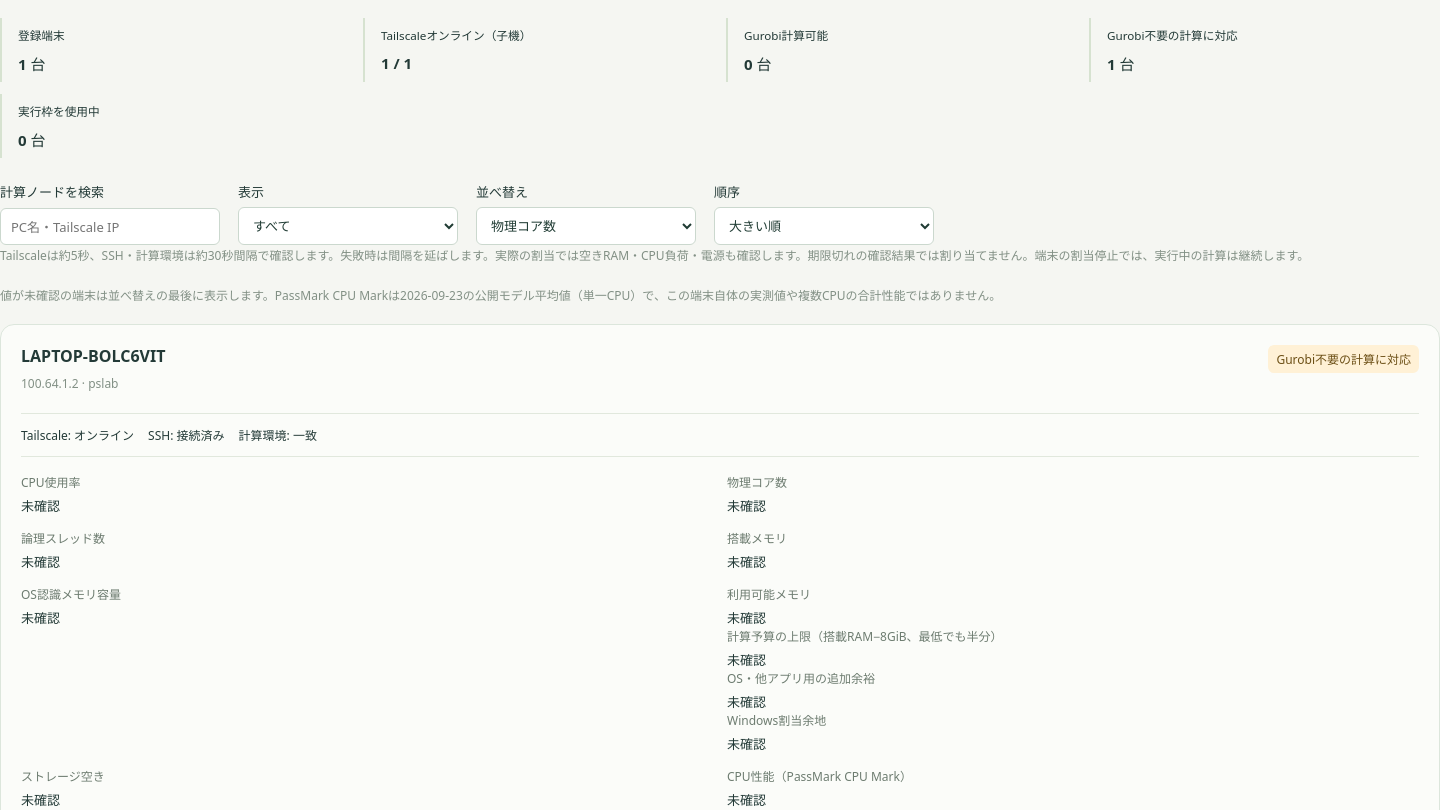
Test: shows a verified no-Gurobi worker as usable for its supported calculation
This screenshot has width=1440, height=810.
Check: the text "Gurobi不要の計算に対応" in the row of "LAPTOP-BOLC6VIT" is shown, box [1276,351,1411,368]
Check: the 2nd text "1 台" is shown, box [1107,54,1134,74]
Select "計算可能" in the dropdown labelled "表示" at (348, 226), box [238,207,458,245]
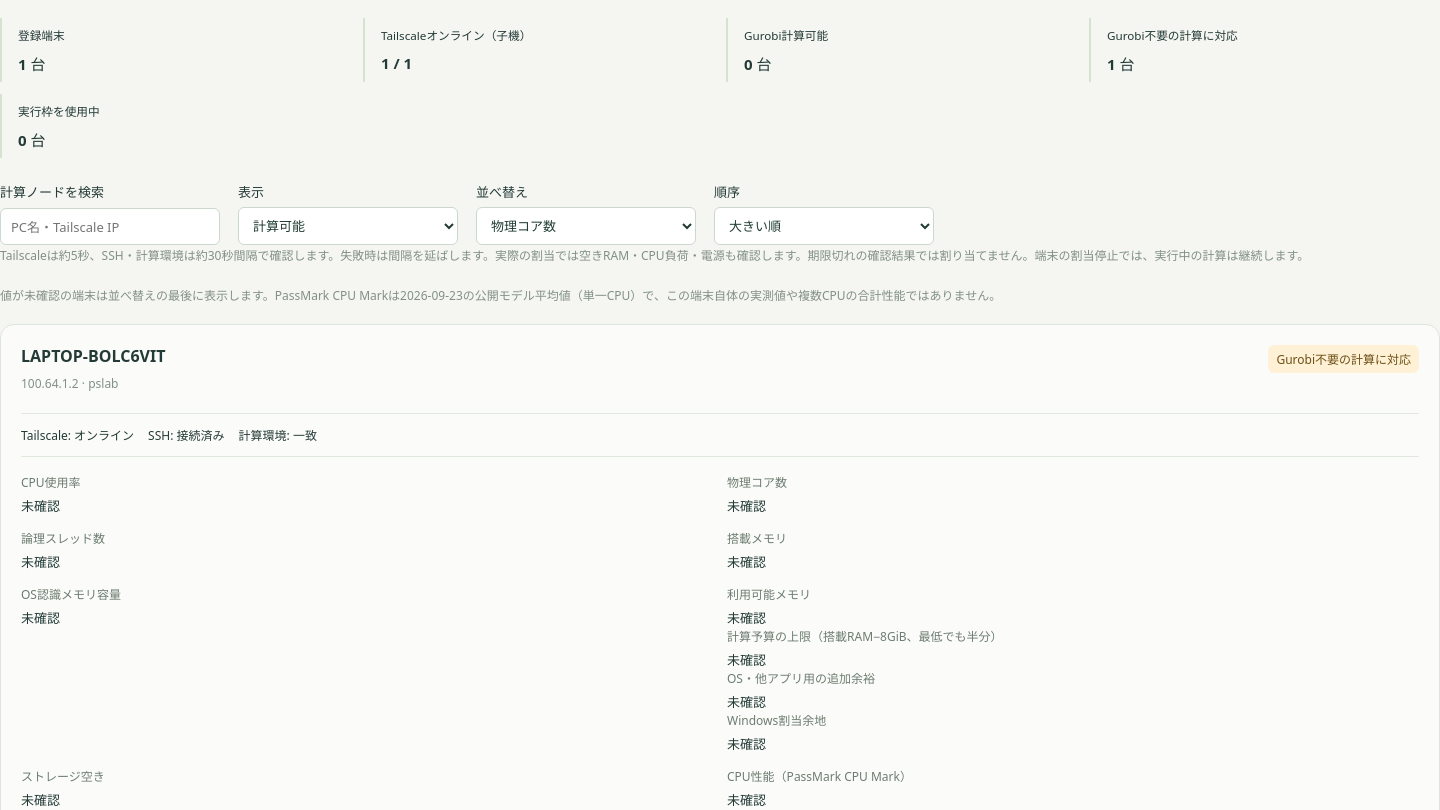
Select "準備・確認が必要" in the dropdown labelled "表示" at (348, 226), box [238,207,458,245]
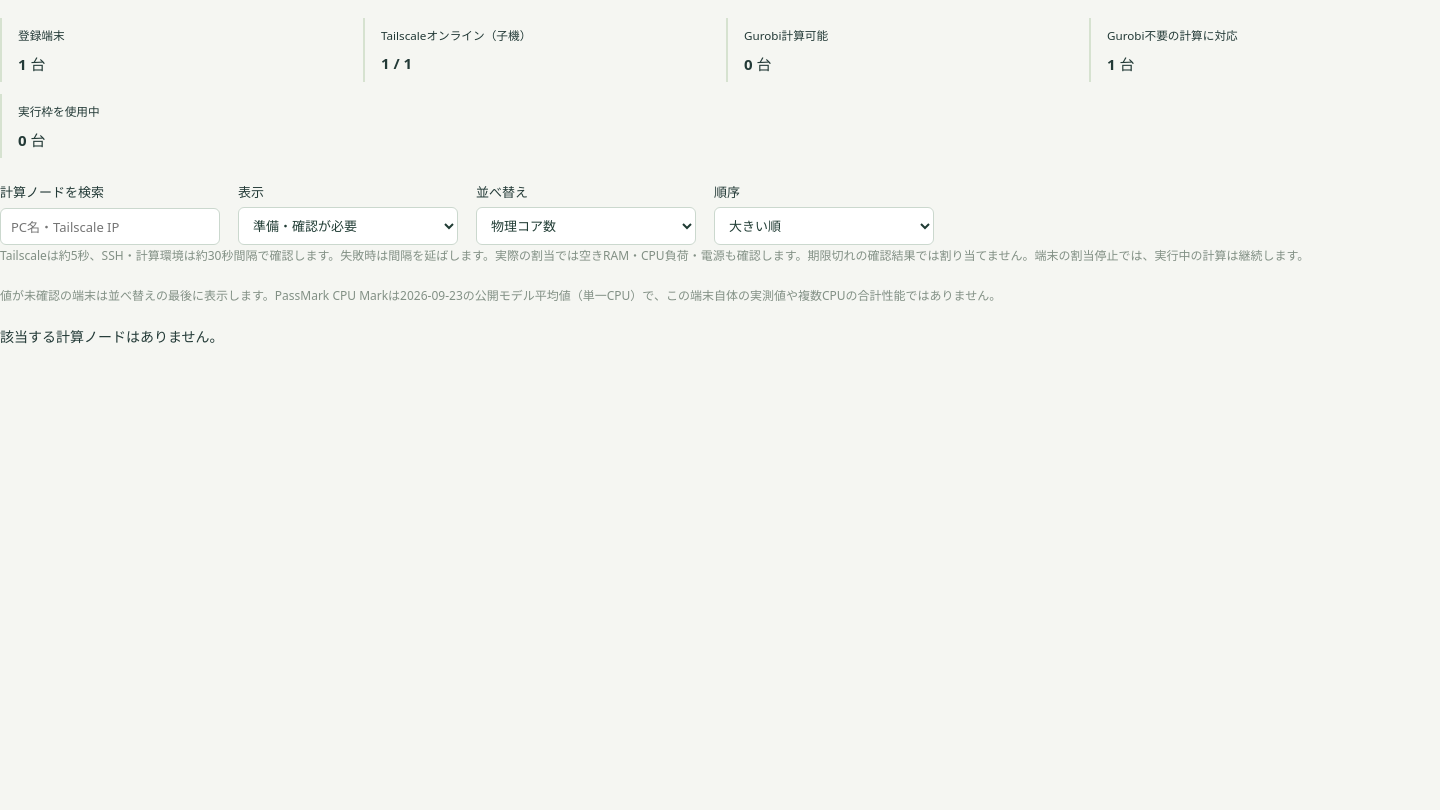
Check: the heading "LAPTOP-BOLC6VIT" is gone
